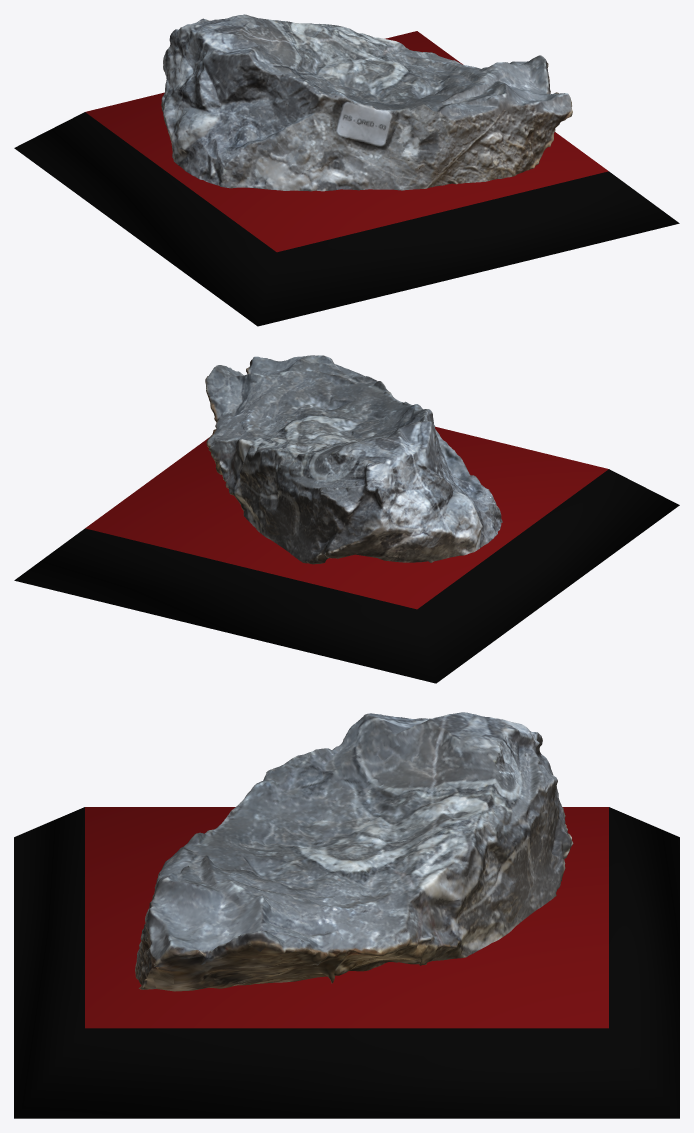
The model's file is Caliza_Fosilifera.glb.
3 renders of one model, top to bottom at view 1: azimuth 30°, elevation 25°; view 2: azimuth 150°, elevation 25°; view 3: azimuth 270°, elevation 25°, orthographic. The views are drawn at different scales.
Parts seen in each view (by area): view 1: texturedMesh.001; view 2: texturedMesh.001; view 3: texturedMesh.001.
Boxes of the visible parts, x1=… form: texturedMesh.001: x1=14, y1=14, x2=679, y2=326; texturedMesh.001: x1=14, y1=355, x2=679, y2=683; texturedMesh.001: x1=14, y1=712, x2=679, y2=1118.
Bounding box in the file's own units: 10 × 3.38 × 10.
Materials: 4 (2 with a texture image).
